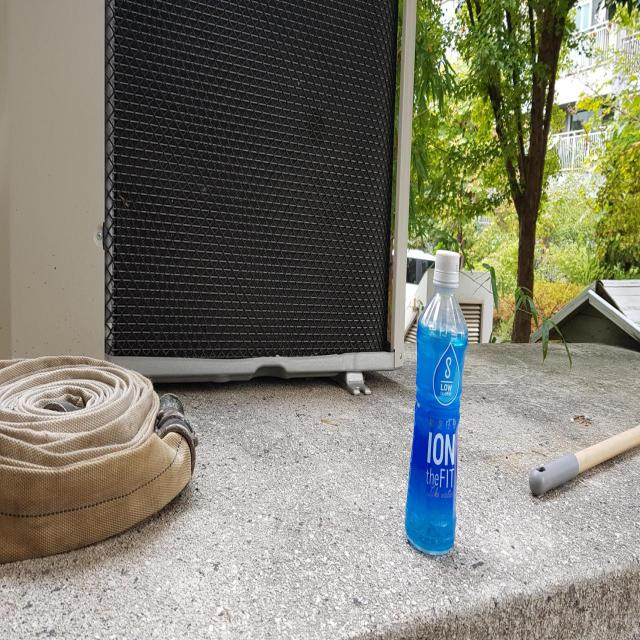plastic: (406, 250, 469, 555)
